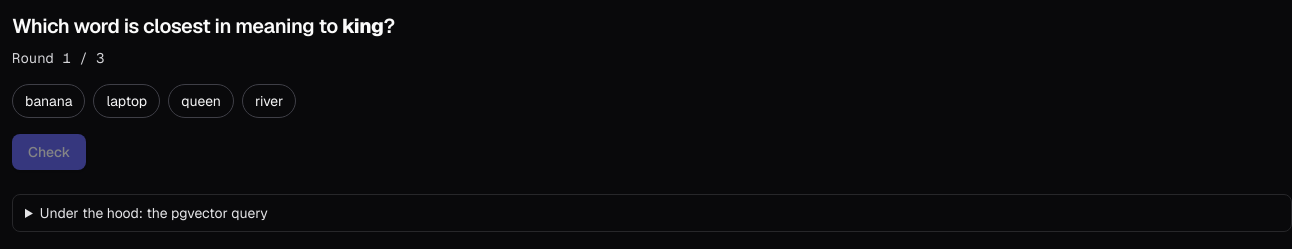
Scenario: a pick enables check, presses the chip, and toggles off
Expected: the heading "Which word is closest in meaning to king?" is shown, [12,13,394,39]
Expected: the text "Round 1 / 3" is shown, [12,49,104,67]
Click the button "queen": (201, 101) [168,84,234,118]
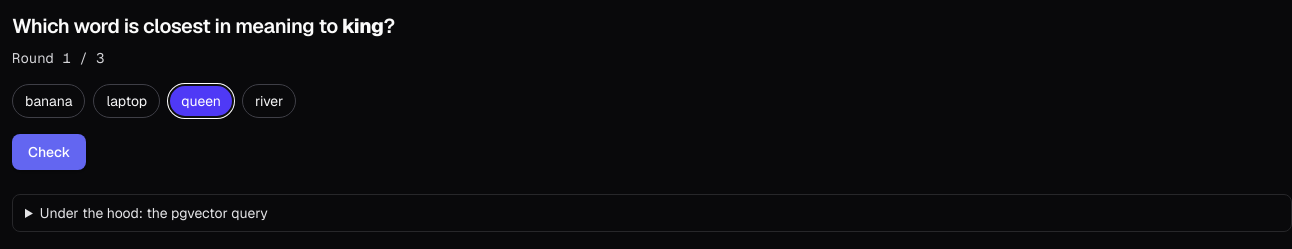
Result: the button "Check" is enabled at [12,134,86,170]
Click the button "queen": (201, 101) [168,84,234,118]
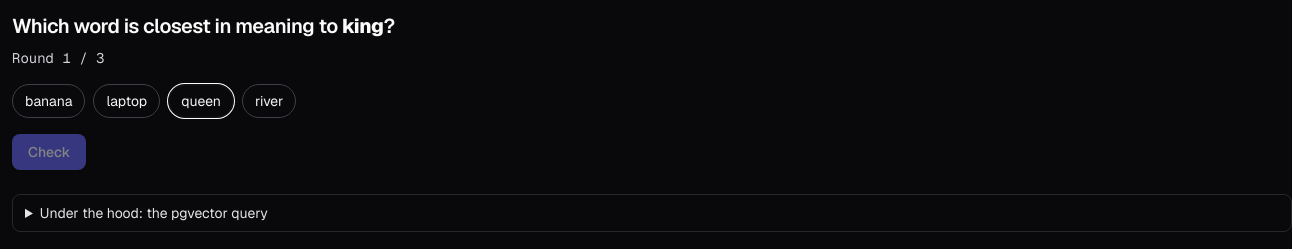
Result: the button "Check" is disabled at [12,134,86,170]
